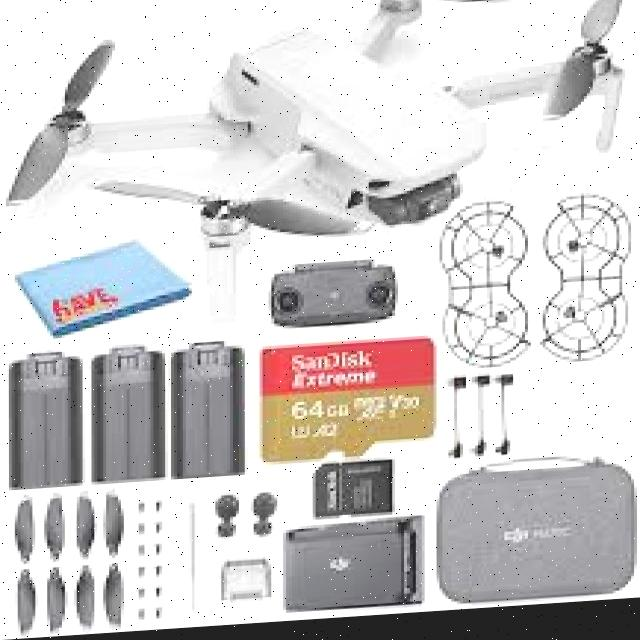drone: (0, 0, 640, 337)
